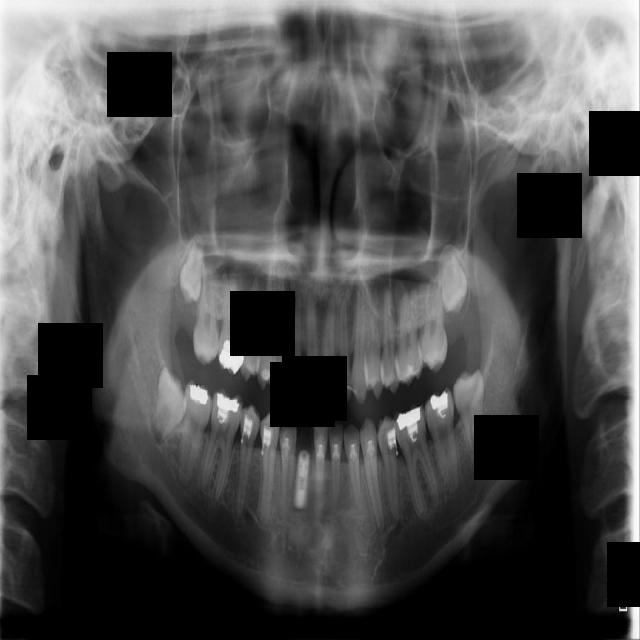3M ESPE Implant: (178, 235, 204, 304)
52: (201, 384, 251, 434), (387, 404, 435, 451), (419, 386, 461, 435), (392, 342, 426, 388), (182, 378, 213, 425), (217, 334, 244, 376), (256, 354, 276, 392)
73: (623, 617, 629, 623)
BioHorizons Implant: (416, 277, 449, 375)
BioLife Implant: (439, 248, 469, 316)
Biomet 3i Implant: (451, 368, 489, 456)
Blue Sky Bio Implant: (422, 386, 462, 497)
Caries: (191, 248, 220, 369)
Implant: (176, 377, 214, 491)
Keystone Dental Implant: (146, 366, 194, 449)
